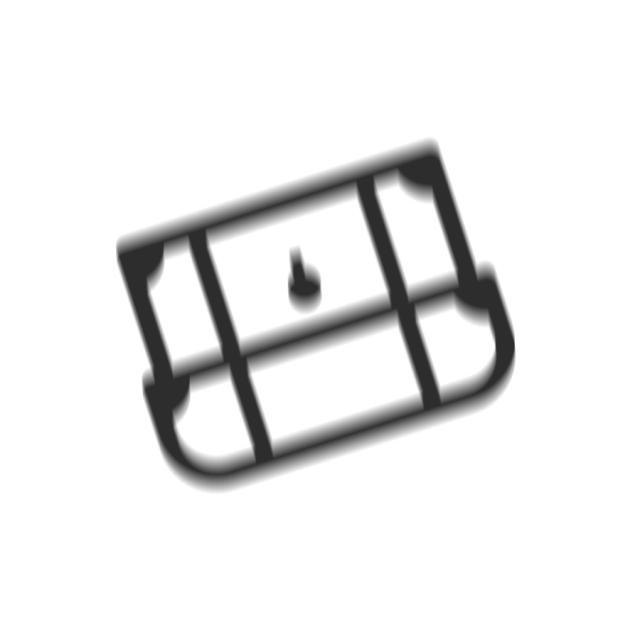treasure_box: (106, 136, 525, 503)
